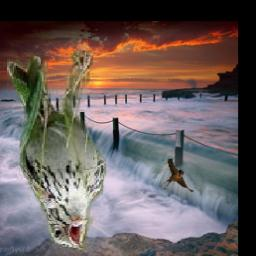Sparrow: (7, 51, 106, 250)
Swallow: (163, 160, 194, 194)
